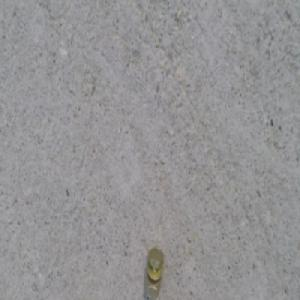BoltNutSet: (145, 249, 163, 297)
